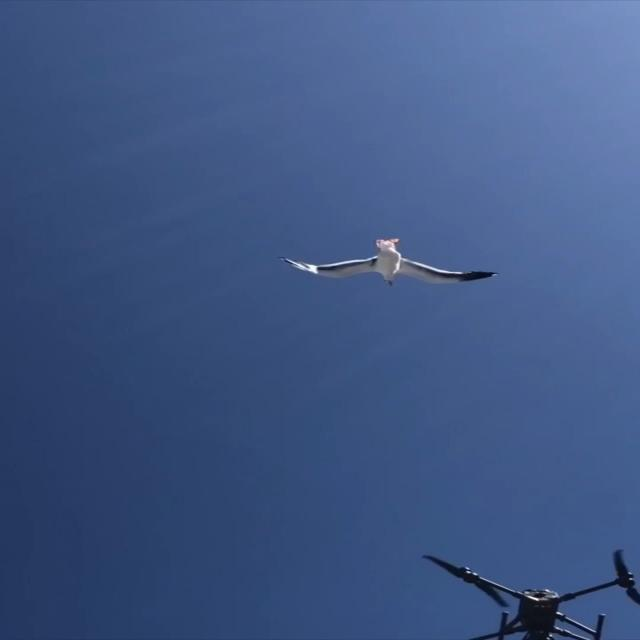bird: (276, 238, 498, 286)
drone: (420, 548, 638, 639)
